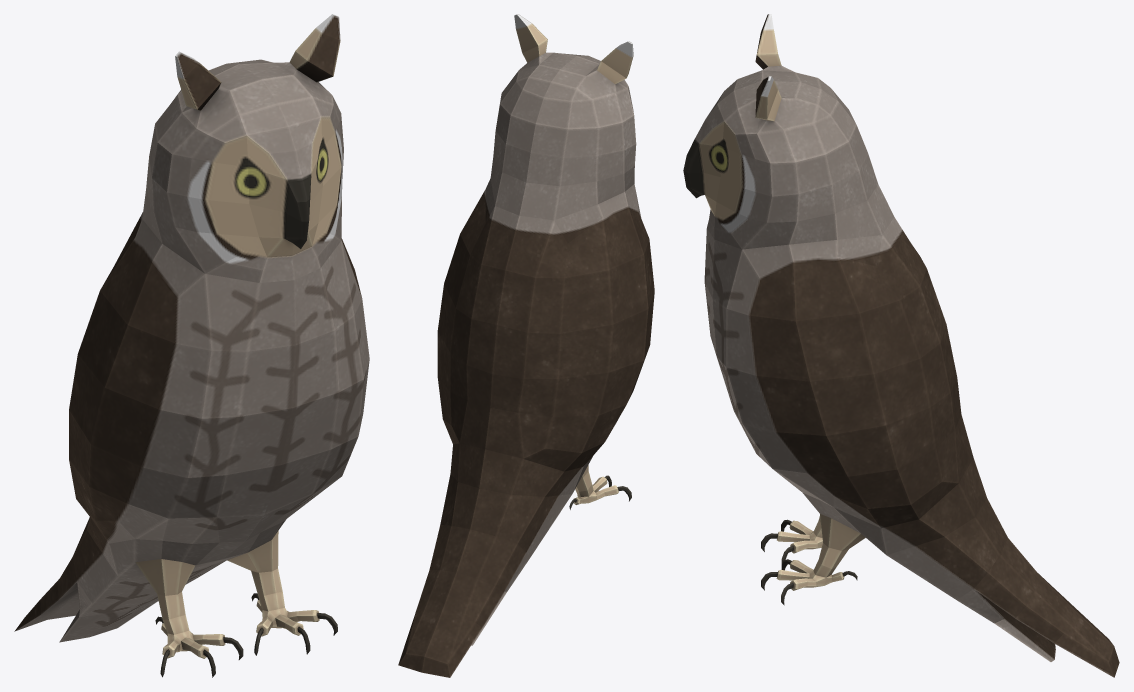
File: owl.glb
The picture shows the model from 3 angles, left to right: view 1: azimuth 30°, elevation 25°; view 2: azimuth 150°, elevation 25°; view 3: azimuth 270°, elevation 25°; orthographic projection. The views are drawn at different scales.
Parts seen in each view (by area): view 1: LongEaredOwl_mesh; view 2: LongEaredOwl_mesh; view 3: LongEaredOwl_mesh.
Boxes of the visible parts, x1,y1,x2,y2 form: LongEaredOwl_mesh: (14, 14, 369, 677); LongEaredOwl_mesh: (398, 14, 654, 677); LongEaredOwl_mesh: (683, 14, 1119, 677).
Bounding box in the file's own units: 4.75 × 12.73 × 8.14.
1 material, 1 textured.
